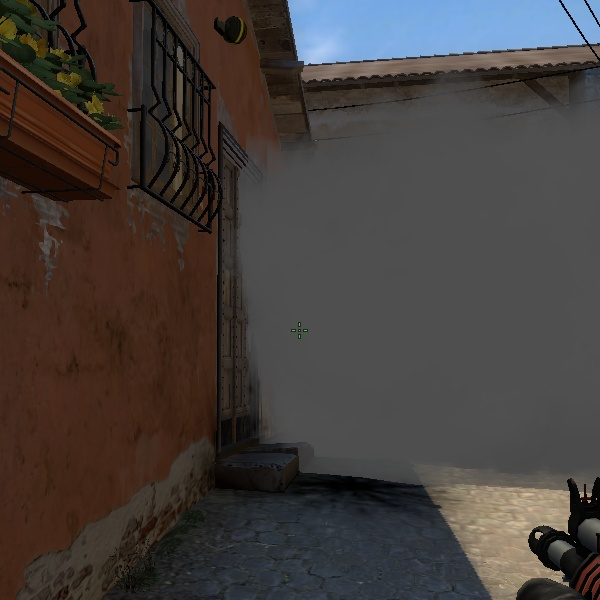t_body: (0, 0, 493, 600)
